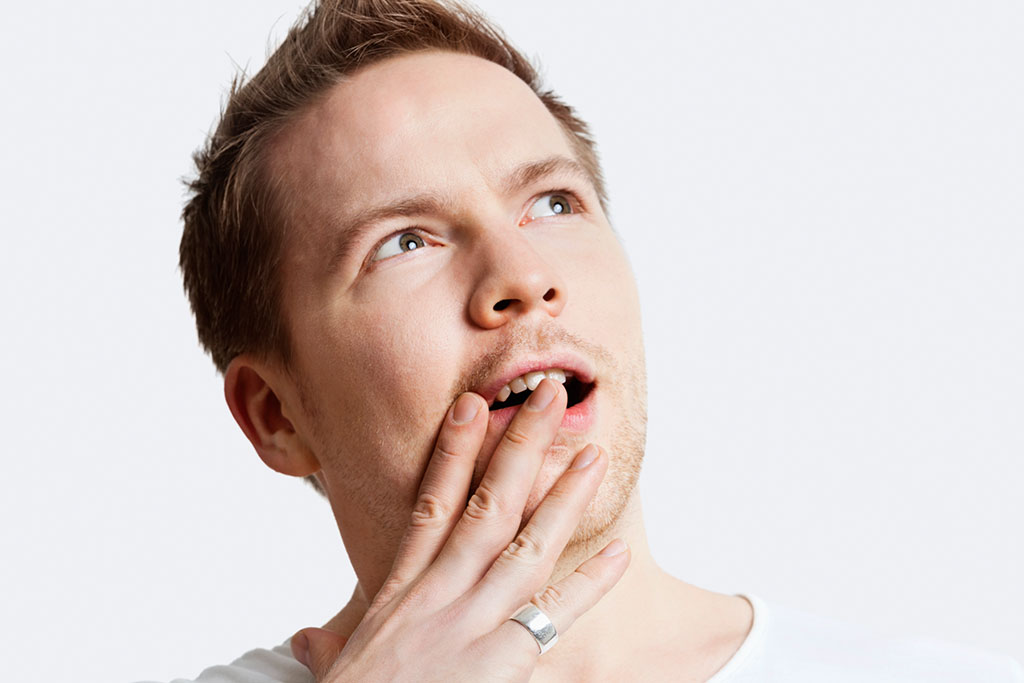face: (315, 63, 661, 553)
